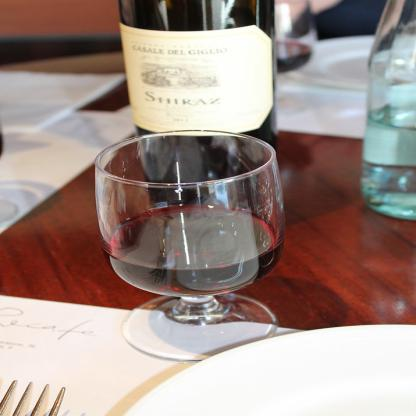drinking: (96, 129, 288, 365), (119, 0, 277, 210)
